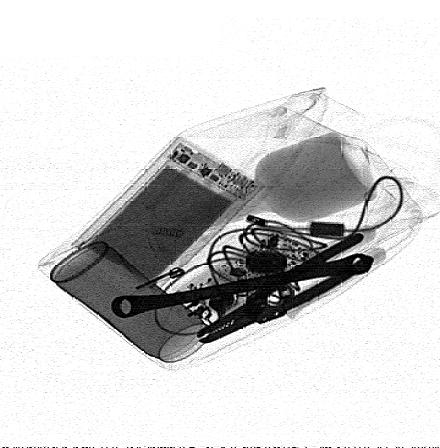Pliers: (194, 230, 374, 344)
Powerbank: (71, 136, 267, 303)
Wrench: (113, 251, 374, 318)
